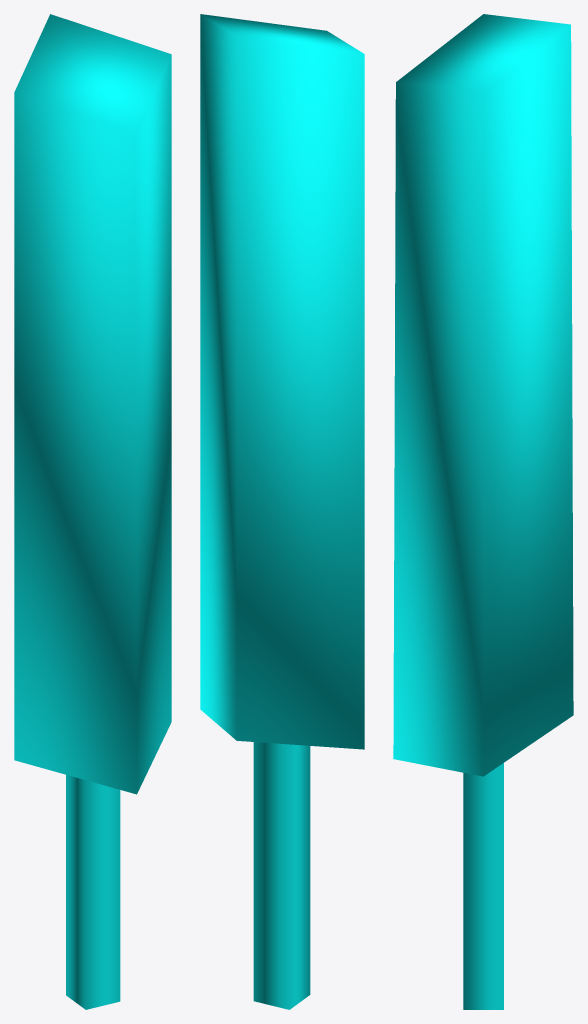
The model's file is Piruleta LP 2.fbx.
3 views of the same model, side by side, from view 1: azimuth 30°, elevation 25°; view 2: azimuth 150°, elevation 25°; view 3: azimuth 270°, elevation 25° (orthographic). The views are drawn at different scales.
Visible parts, largest first — view 1: Piruleta LP 2; view 2: Piruleta LP 2; view 3: Piruleta LP 2.
Boxes of the visible parts, x1,y1,x2,y2 form: Piruleta LP 2: [14, 14, 171, 1009]; Piruleta LP 2: [200, 14, 364, 1009]; Piruleta LP 2: [393, 14, 573, 1009].
Bounding box in the file's own units: 138 × 795 × 133.
